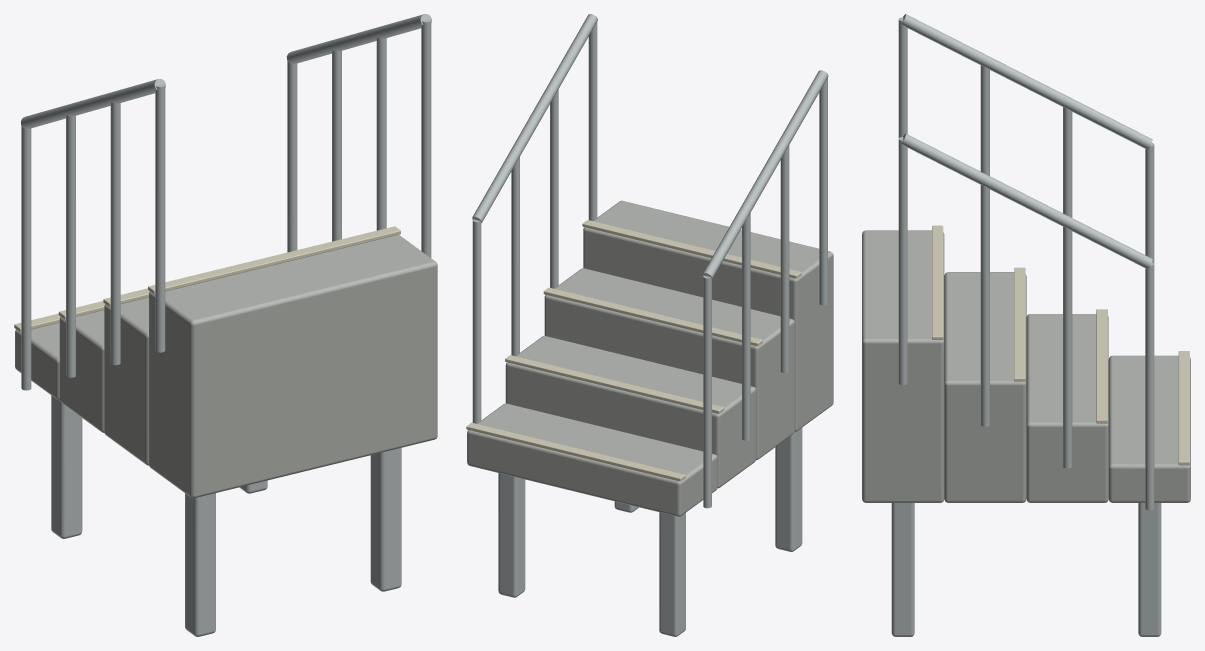
Rendered from abandoned-tidal-model-testing-hall-basin-access-stair-008c193f__32375.glb.
3 views of the same model, side by side, from view 1: azimuth 30°, elevation 25°; view 2: azimuth 150°, elevation 25°; view 3: azimuth 270°, elevation 25° (orthographic). The views are drawn at different scales.
Visible parts, largest first — view 1: basin-access-stair; view 2: basin-access-stair; view 3: basin-access-stair.
Boxes of the visible parts, x1,y1,x2,y2 form: basin-access-stair: (14,14,437,636); basin-access-stair: (466,14,833,636); basin-access-stair: (862,14,1190,636).
Size of the model in its own units: 0.896 by 1.74 by 1.
